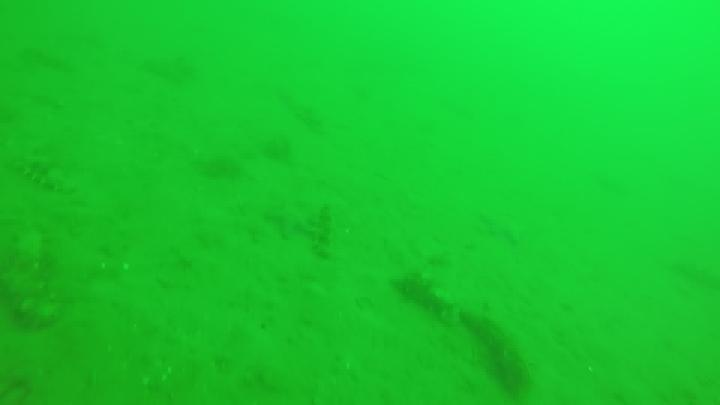holothurian: (458, 301, 536, 405), (394, 274, 458, 324), (17, 153, 74, 192), (314, 202, 344, 262)
starfish: (268, 199, 319, 241)
